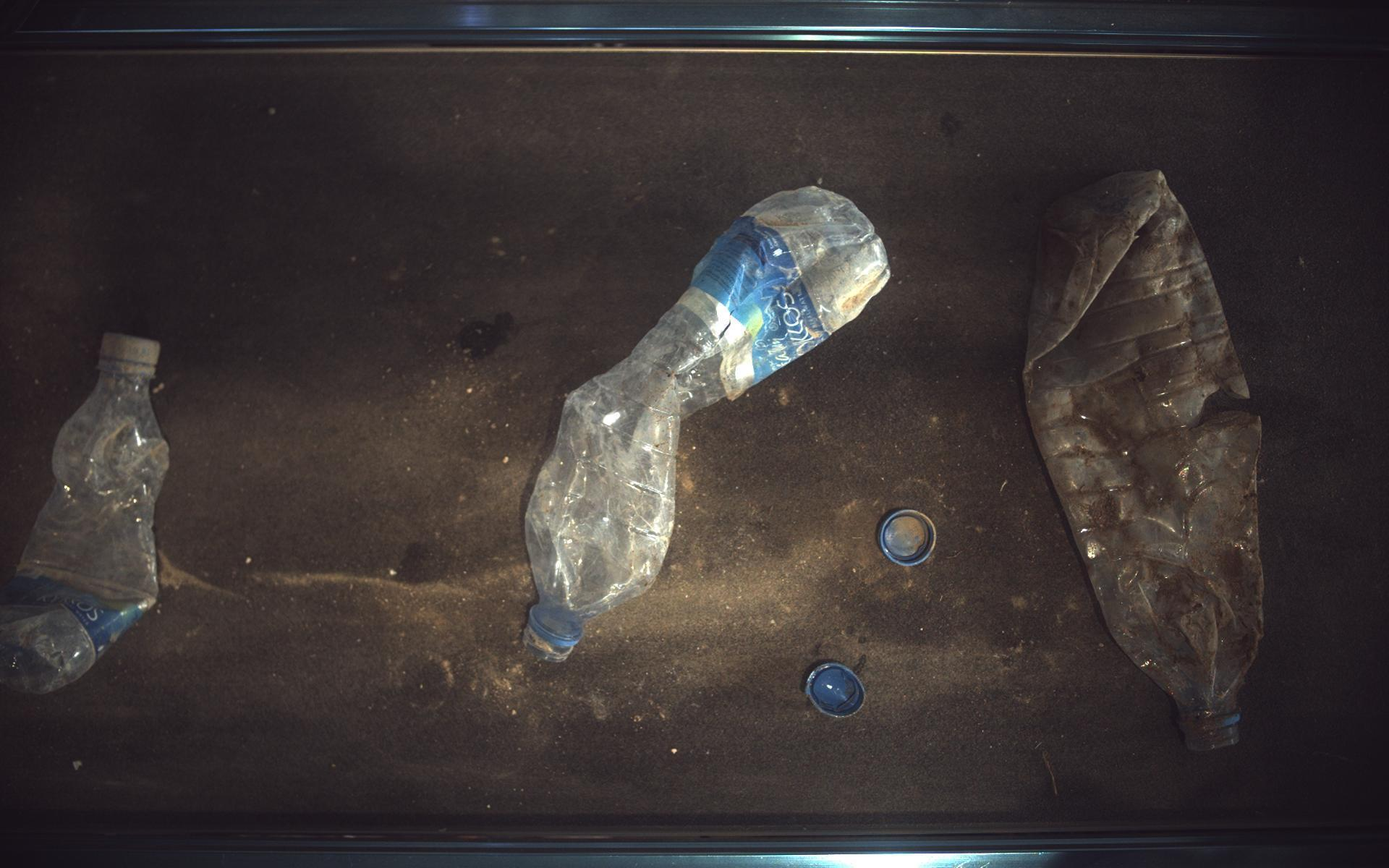general_w: (524, 185, 892, 663), (1026, 170, 1267, 752), (880, 509, 938, 567), (807, 664, 867, 718)
